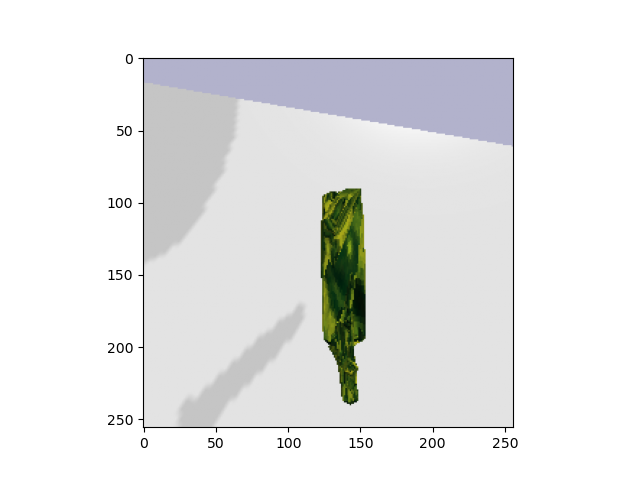v249b387_108: (316, 184, 375, 410)
